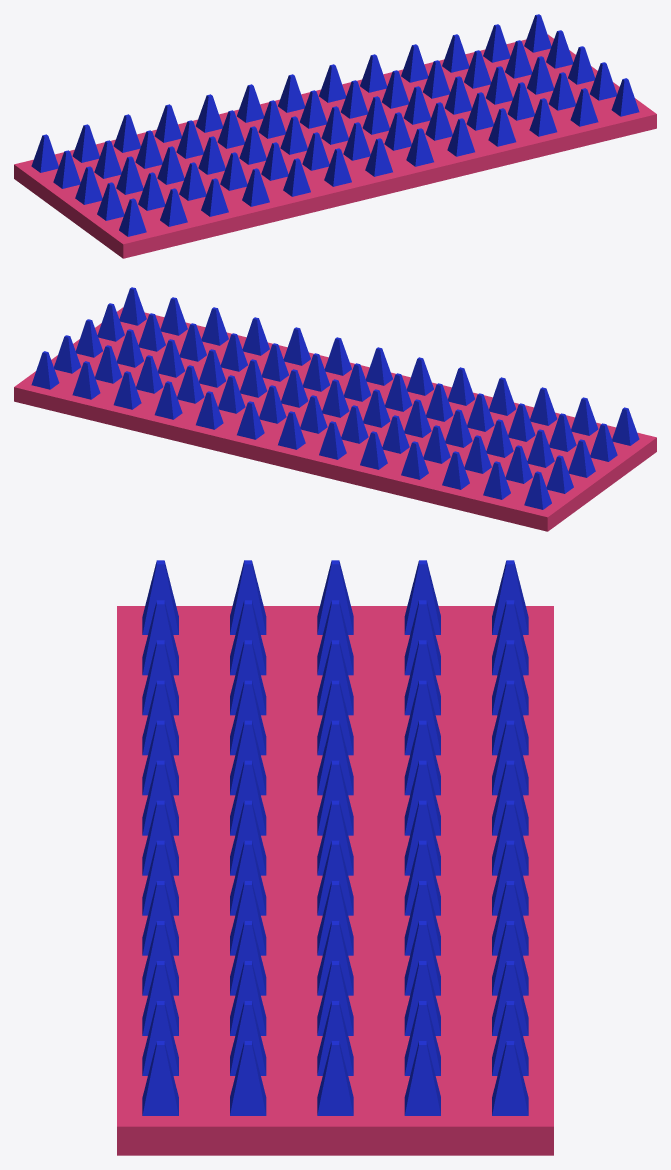
File: pine.fbx
3 renders of one model, top to bottom at view 1: azimuth 30°, elevation 25°; view 2: azimuth 150°, elevation 25°; view 3: azimuth 270°, elevation 25°, orthographic. The views are drawn at different scales.
Visible parts, largest first — view 1: Cube; view 2: Cube; view 3: Cube.
Part boxes in pixels (x1,y1,x2,y2): Cube: (14, 14, 656, 258); Cube: (14, 287, 656, 531); Cube: (117, 560, 553, 1155).
Size of the model in its own units: 564 by 46.73 by 200.
